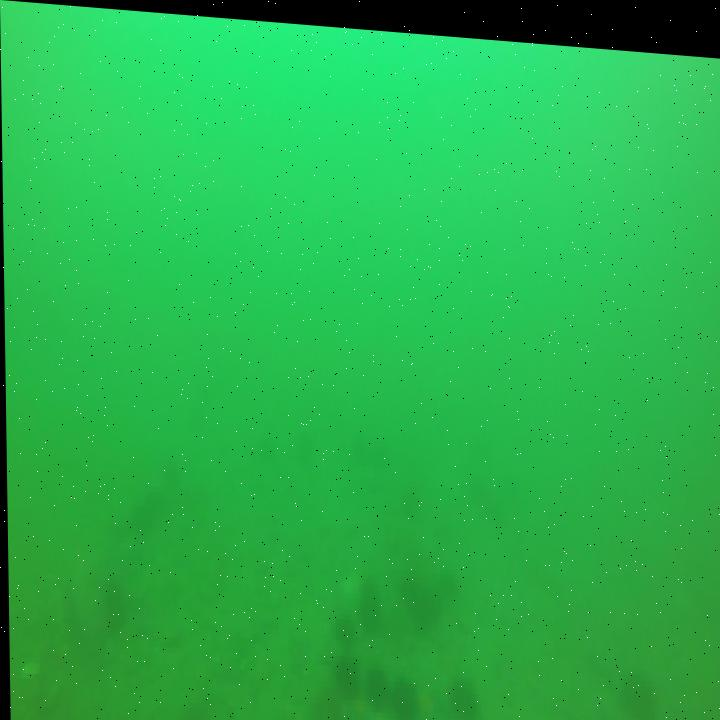echinus: (404, 566, 437, 622), (388, 670, 421, 720), (621, 661, 653, 707), (333, 648, 358, 695), (362, 660, 385, 704), (451, 673, 475, 713), (358, 573, 379, 615), (331, 608, 355, 644)
